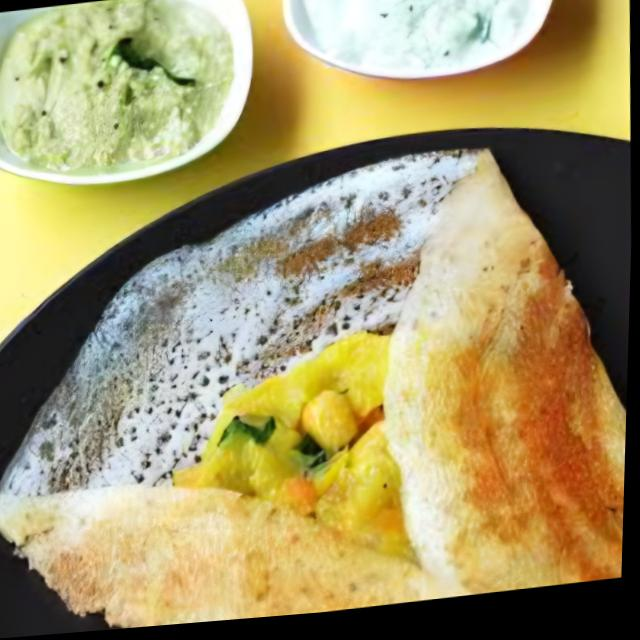CURD: (270, 0, 561, 99)
DOSA: (0, 144, 626, 628)
GREEN CHUTNEY: (0, 0, 233, 174)
